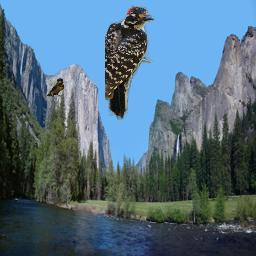Swallow: (46, 78, 64, 99)
Woodpecker: (105, 5, 154, 120)
